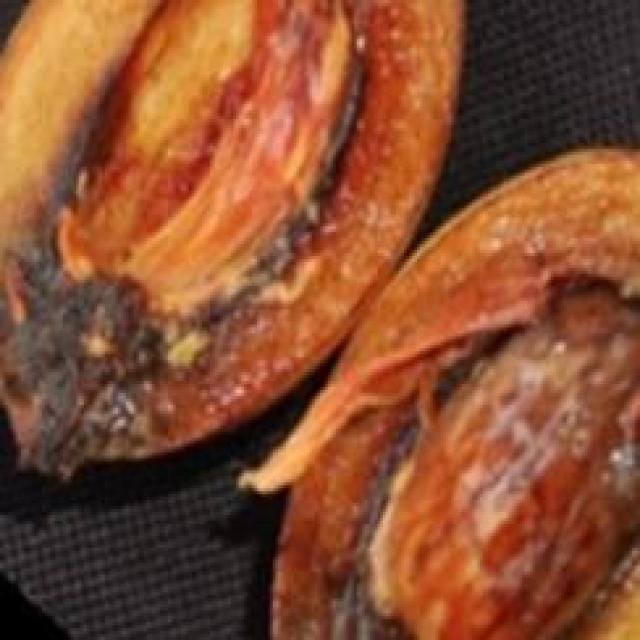damaged: (0, 0, 462, 476), (241, 149, 637, 637)
